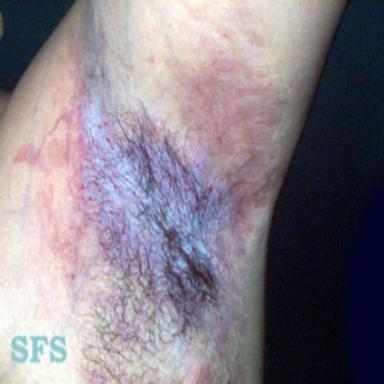Hailey-Hailey-Disease: (80, 66, 229, 330)
